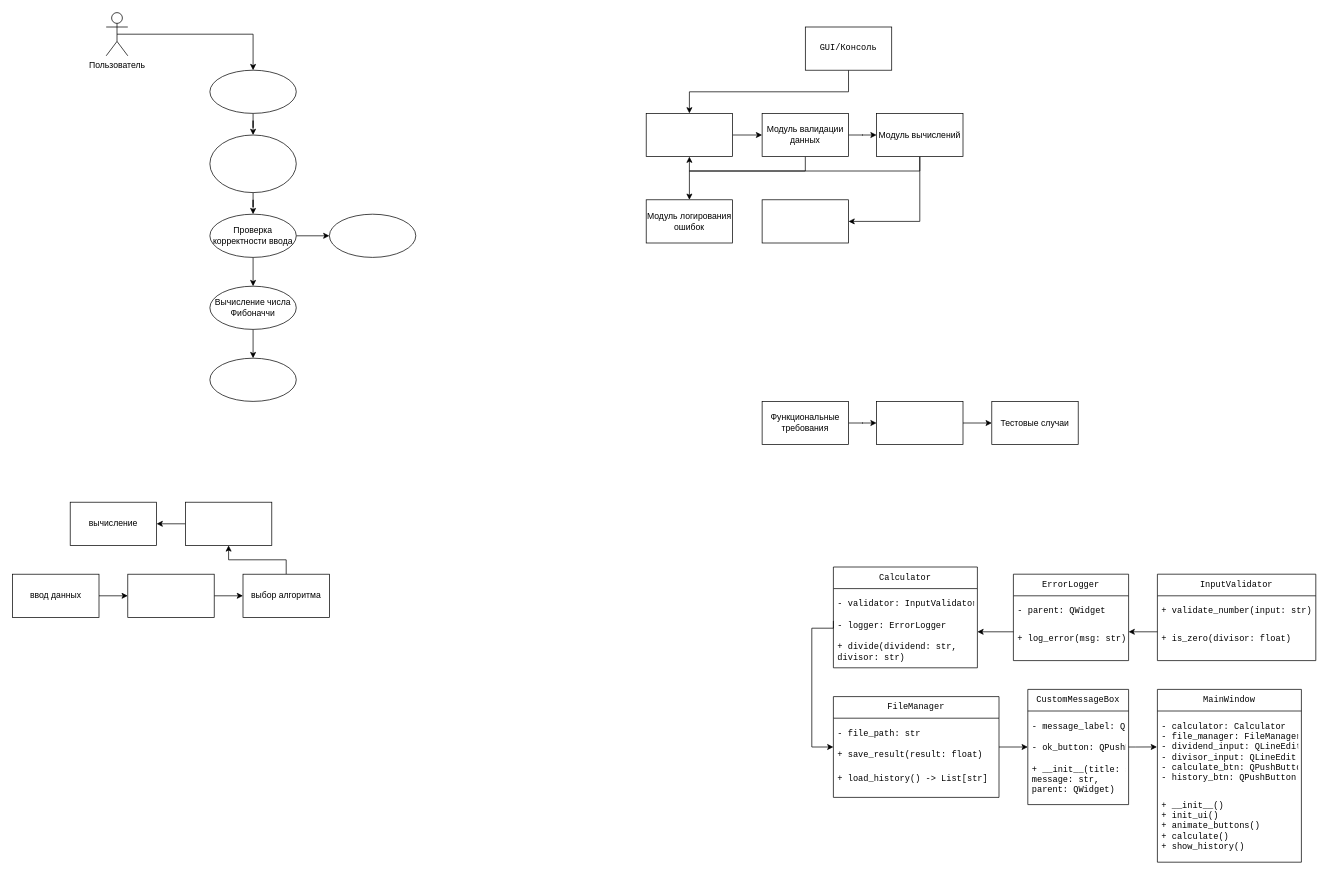
The diagram is 1328 pixels wide and 875 high, and some of its shapes have lost their labels. Here are the shapes that lost their labels. From the top down, the centre of each, then its label:
At (252,91): "Главное окно приложения".
At (689,135): "Модуль ввода/вывода".
At (252,163): "Ввод данных: номер числа/количество элементов".
At (372,235): "Ввод некорректен".
At (805,221): "История операций".
At (252,379): "Вывести результат".
At (919,423): "Сценарии использования".
At (228,523): "вывод результата".
At (170,595): "валидация".
